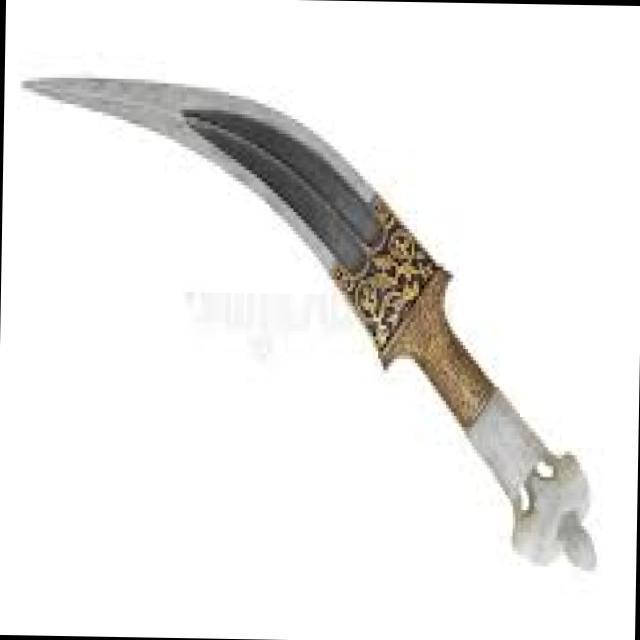Gun: (2, 51, 608, 578)
